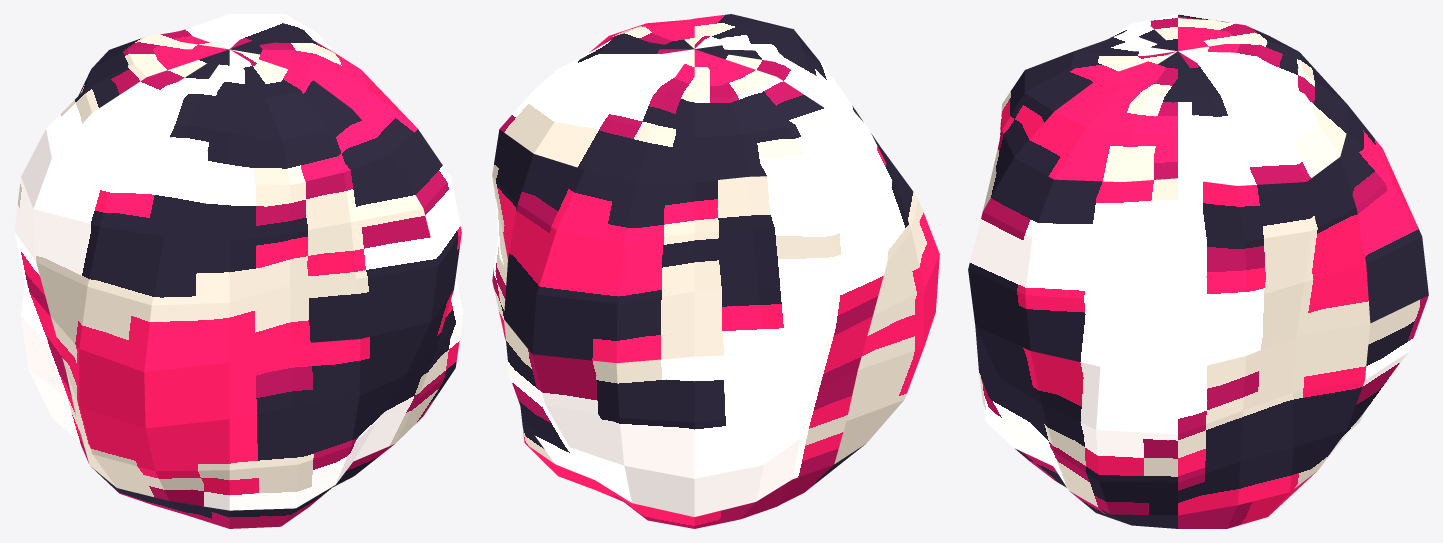
Rendered from NIE-03_Pustula.gltf.
The picture shows the model from 3 angles, left to right: view 1: azimuth 30°, elevation 25°; view 2: azimuth 150°, elevation 25°; view 3: azimuth 270°, elevation 25°; orthographic projection.
Parts seen in each view (by area): view 1: NIE-03_Pustula; view 2: NIE-03_Pustula; view 3: NIE-03_Pustula.
Boxes of the visible parts, x1,y1,x2,y2 form: NIE-03_Pustula: [14, 14, 463, 528]; NIE-03_Pustula: [492, 14, 939, 528]; NIE-03_Pustula: [968, 14, 1428, 528].
Size of what is drawn, in the model's own units: 0.7461 by 0.8001 by 0.7415.
1 material, 1 textured.
